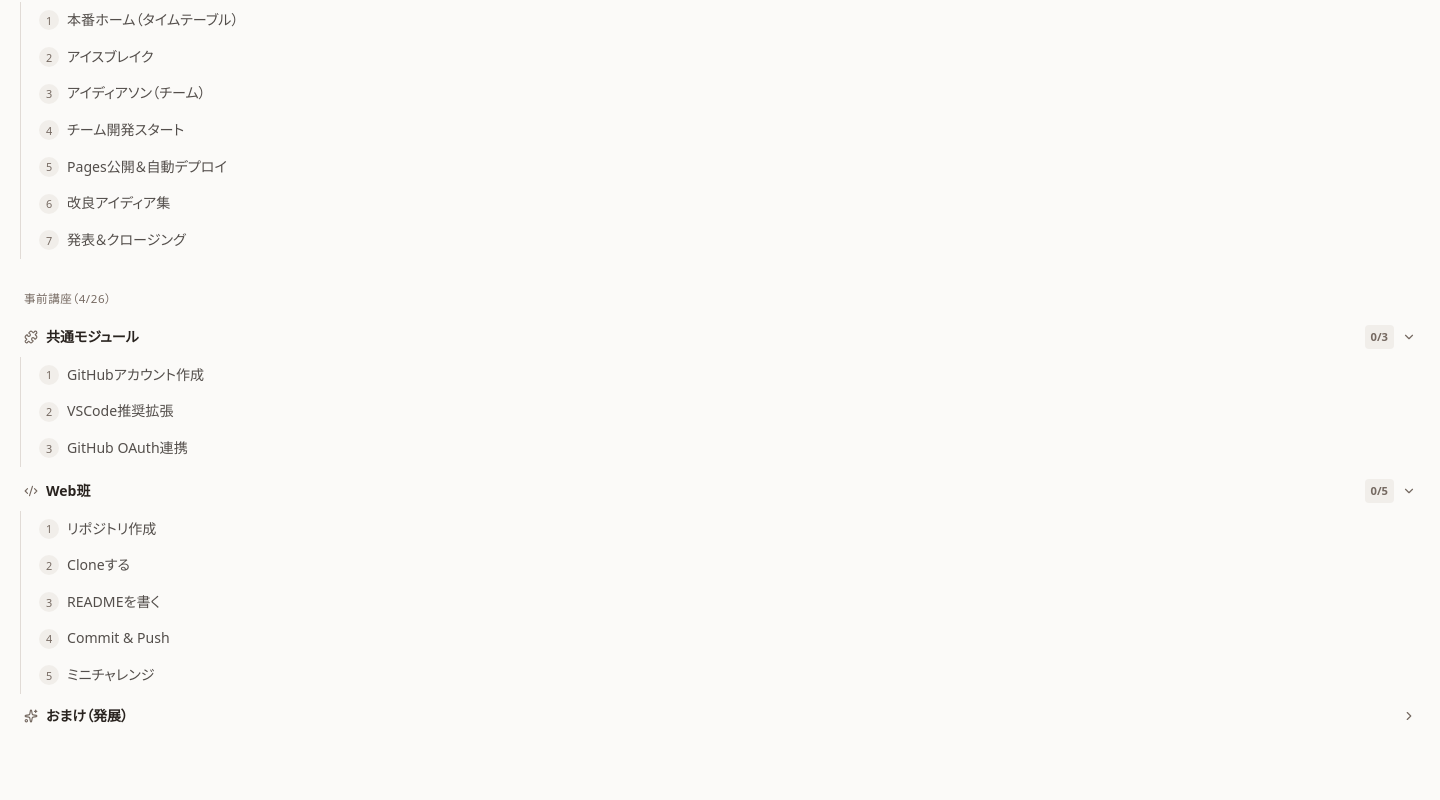
it: <Sidebar /> › おまけセクションは折りたたまれており、押下で開閉する
(page scrolled)
Step 1. Click the button "おまけ（発展）" → [87, 715], box [12,700,1428,732]
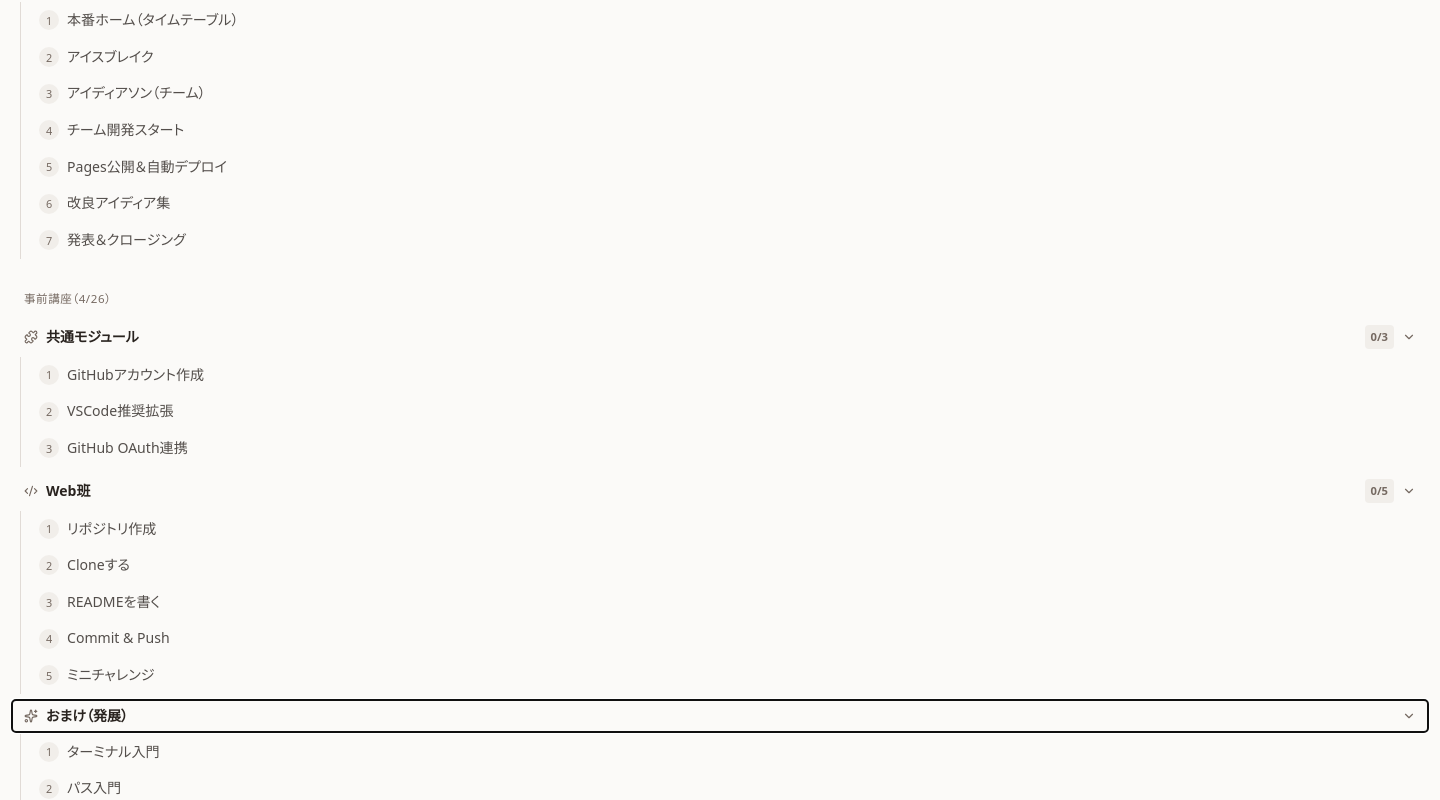
Expected: the button "おまけ（発展）" is expanded, [12,700,1428,732]
